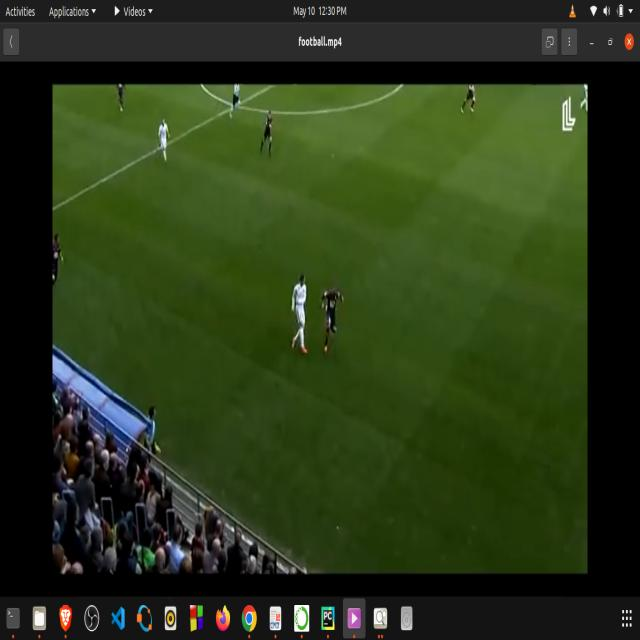football-players: (288, 270, 314, 355), (319, 284, 346, 352), (257, 108, 277, 163), (154, 114, 174, 168), (52, 230, 66, 292), (458, 83, 481, 118), (228, 84, 245, 122), (114, 83, 130, 116)
